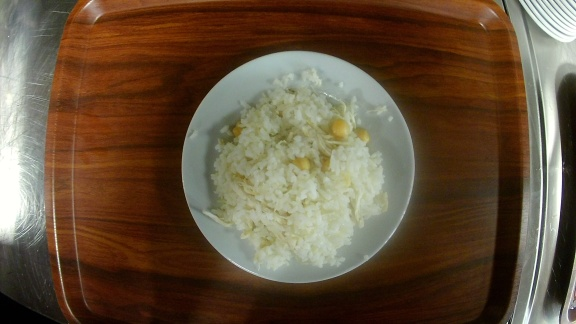nohutlupilav: (179, 50, 416, 284)
